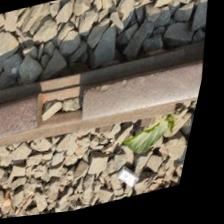person: (18, 68, 118, 153)
